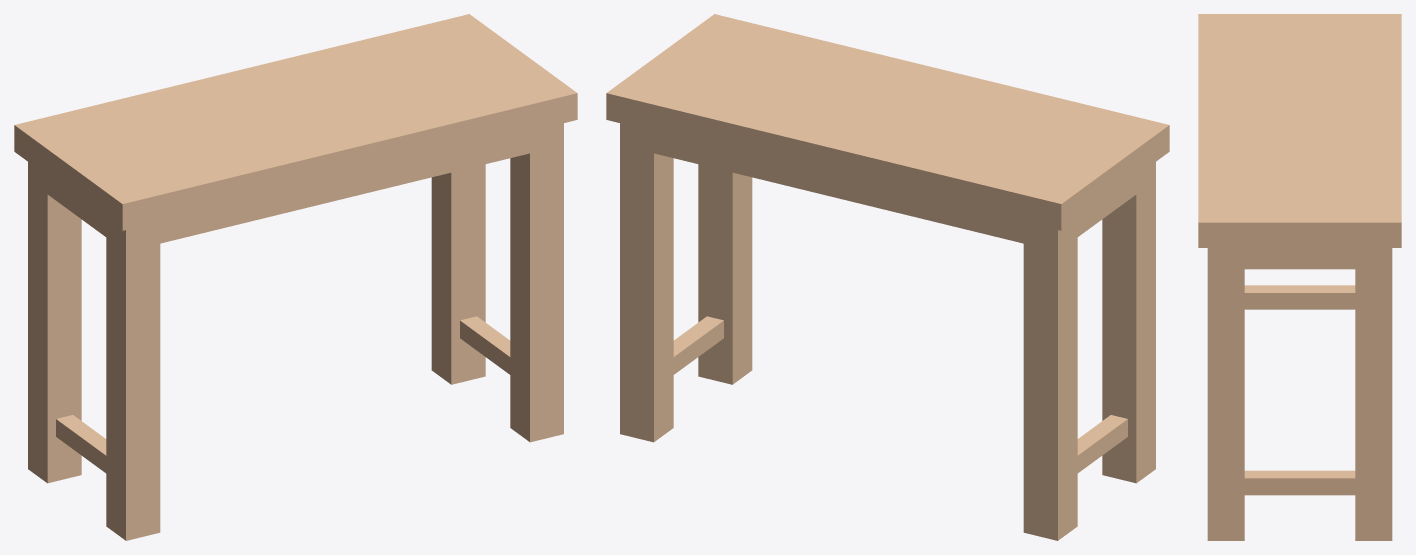
The model's file is sideTable.gltf.
3 views of the same model, side by side, from view 1: azimuth 30°, elevation 25°; view 2: azimuth 150°, elevation 25°; view 3: azimuth 270°, elevation 25° (orthographic). The views are drawn at different scales.
Parts seen in each view (by area): view 1: sideTable(Clone); view 2: sideTable(Clone); view 3: sideTable(Clone).
Part boxes in pixels (<box>): sideTable(Clone): <box>14,14,577,540</box>; sideTable(Clone): <box>606,14,1169,540</box>; sideTable(Clone): <box>1198,14,1401,540</box>.
Size of the model in its own units: 0.5345 by 0.3844 by 0.22.
